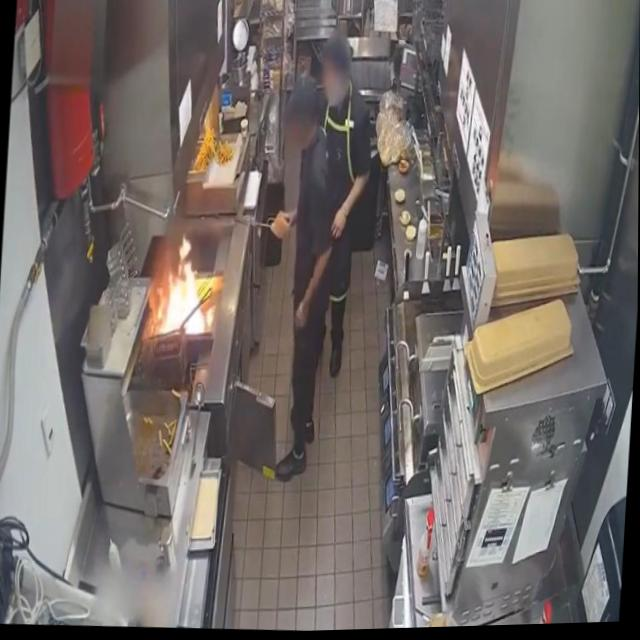fire: (147, 230, 219, 353)
